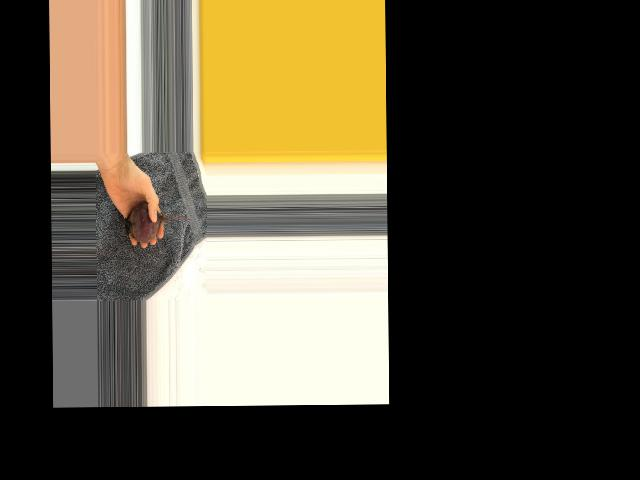beet: (124, 202, 191, 243)
